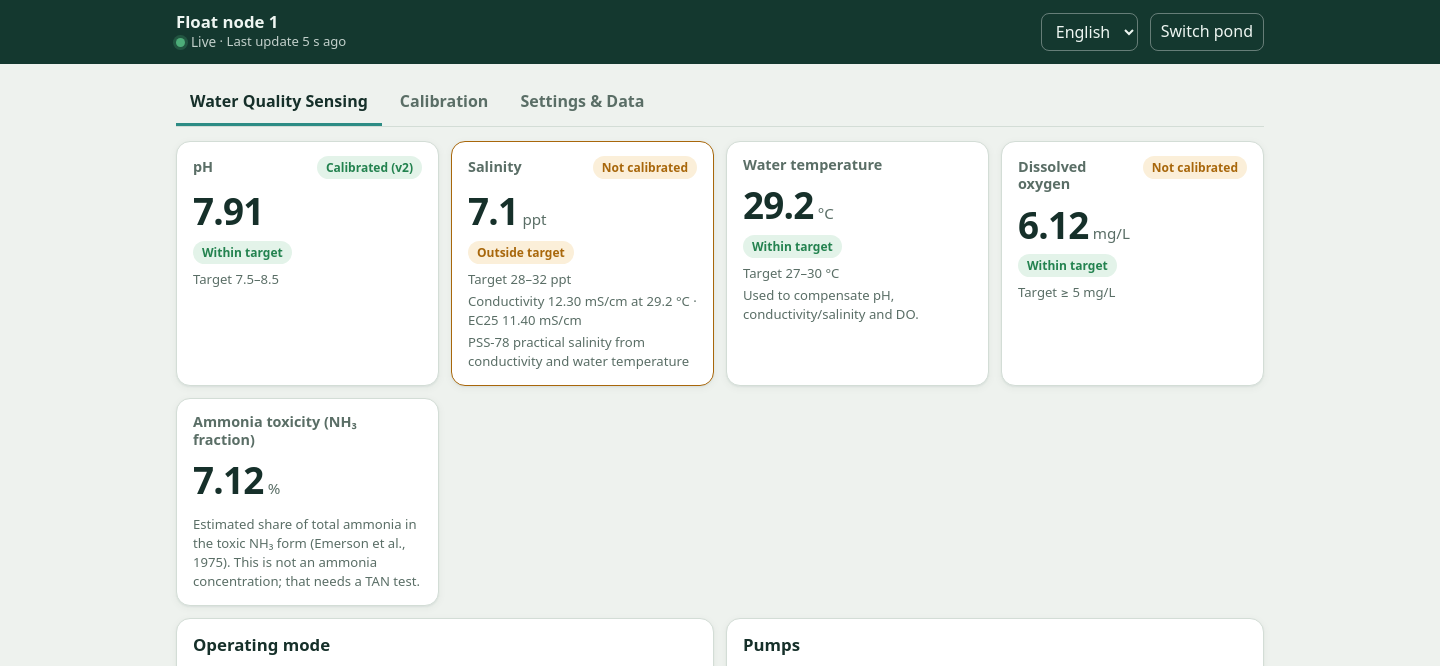
Scenario: language switch › switches the interface to Filipino
The width and height of the screenshot is (1440, 666).
Select "Filipino" in the dropdown named "Language" at [1089, 32], box [1041,13,1138,51]
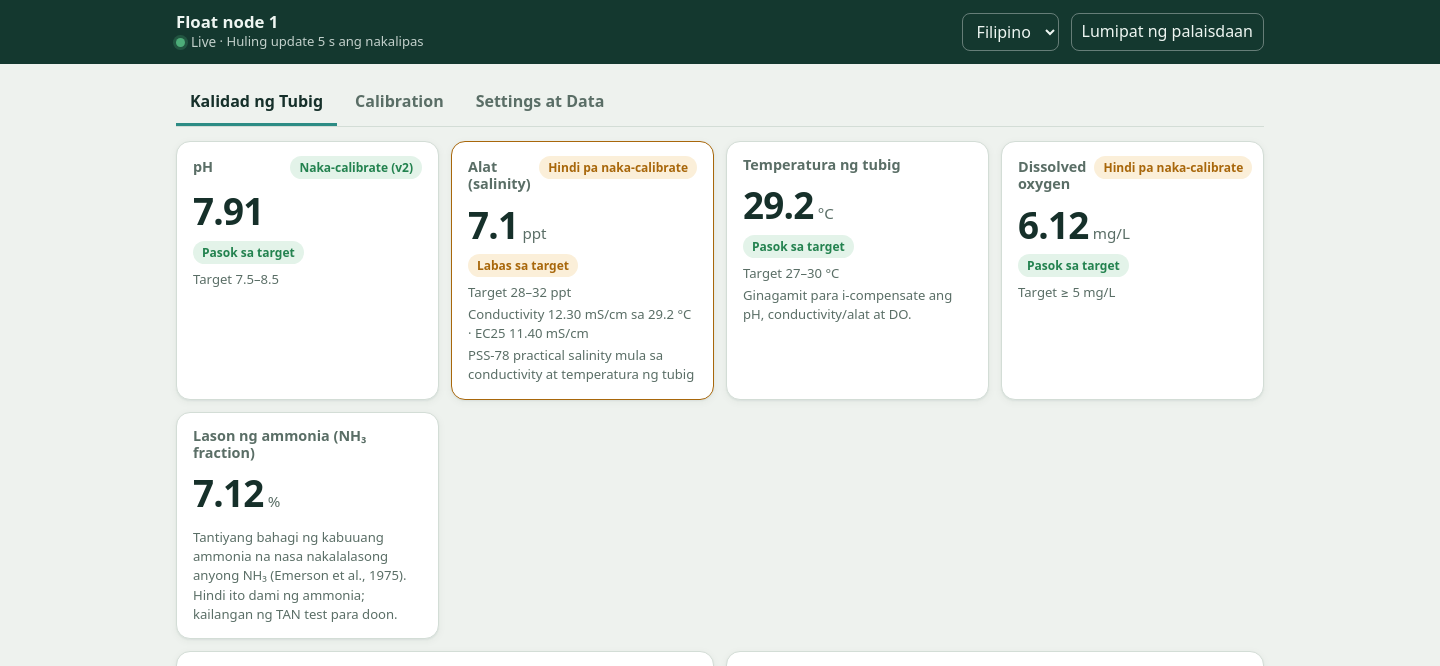
Now the tab "Kalidad ng Tubig" is shown, box [176,80,337,126]
